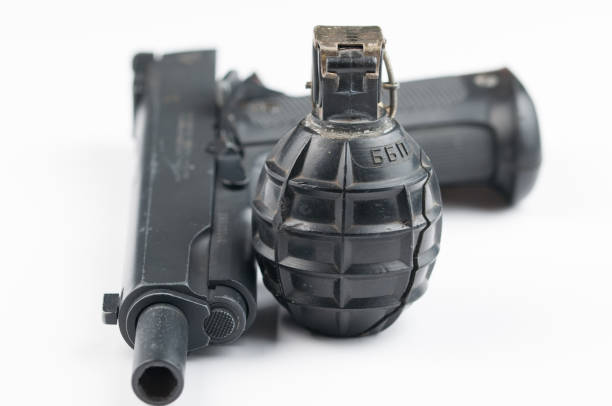e1: (255, 26, 444, 347)
